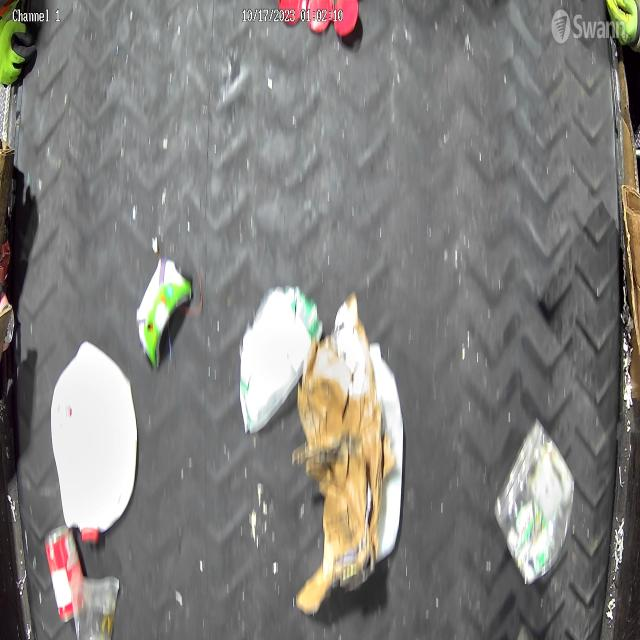can: (46, 526, 83, 622)
milk_jug: (48, 337, 138, 545)
